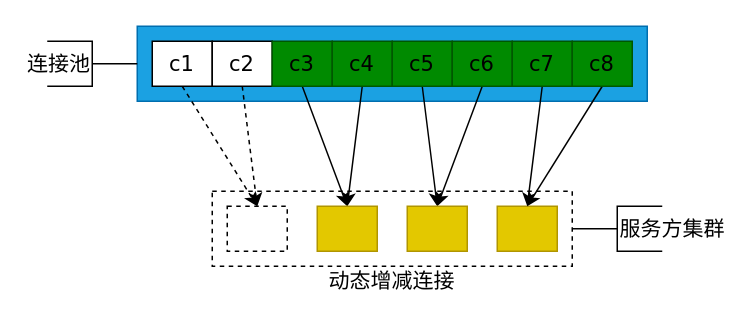
Some shapes in this 750 by 323 pixel diagram are drawn without their labels. The shapes that lost their labels are listed below. From the top down, each one's centre as x and y in pixels, then its label:
At (x=256, y=228): "s1".
At (x=346, y=228): "s2".
At (x=436, y=228): "s3".
At (x=526, y=228): "s4".
